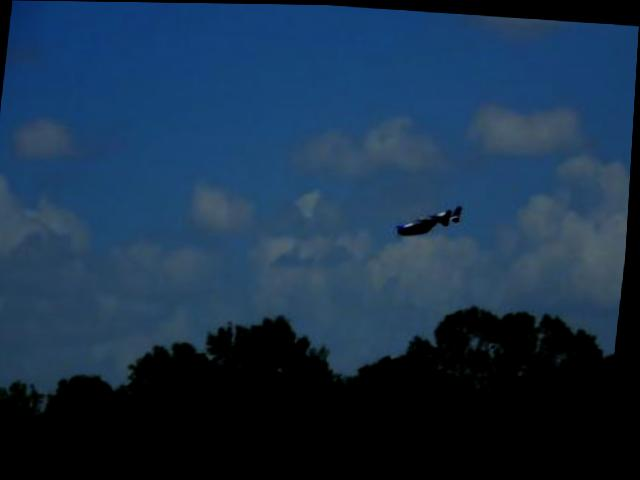uav: (397, 195, 468, 240)
